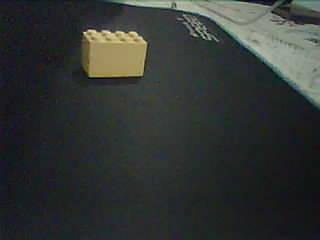lego: (77, 28, 149, 79)
